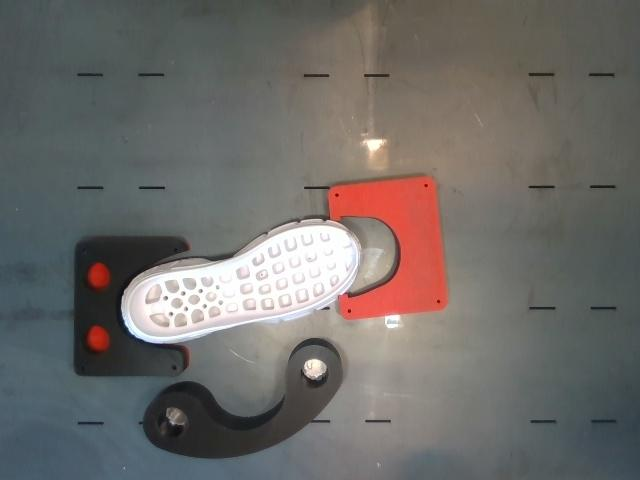shoes: (127, 227, 359, 338)
